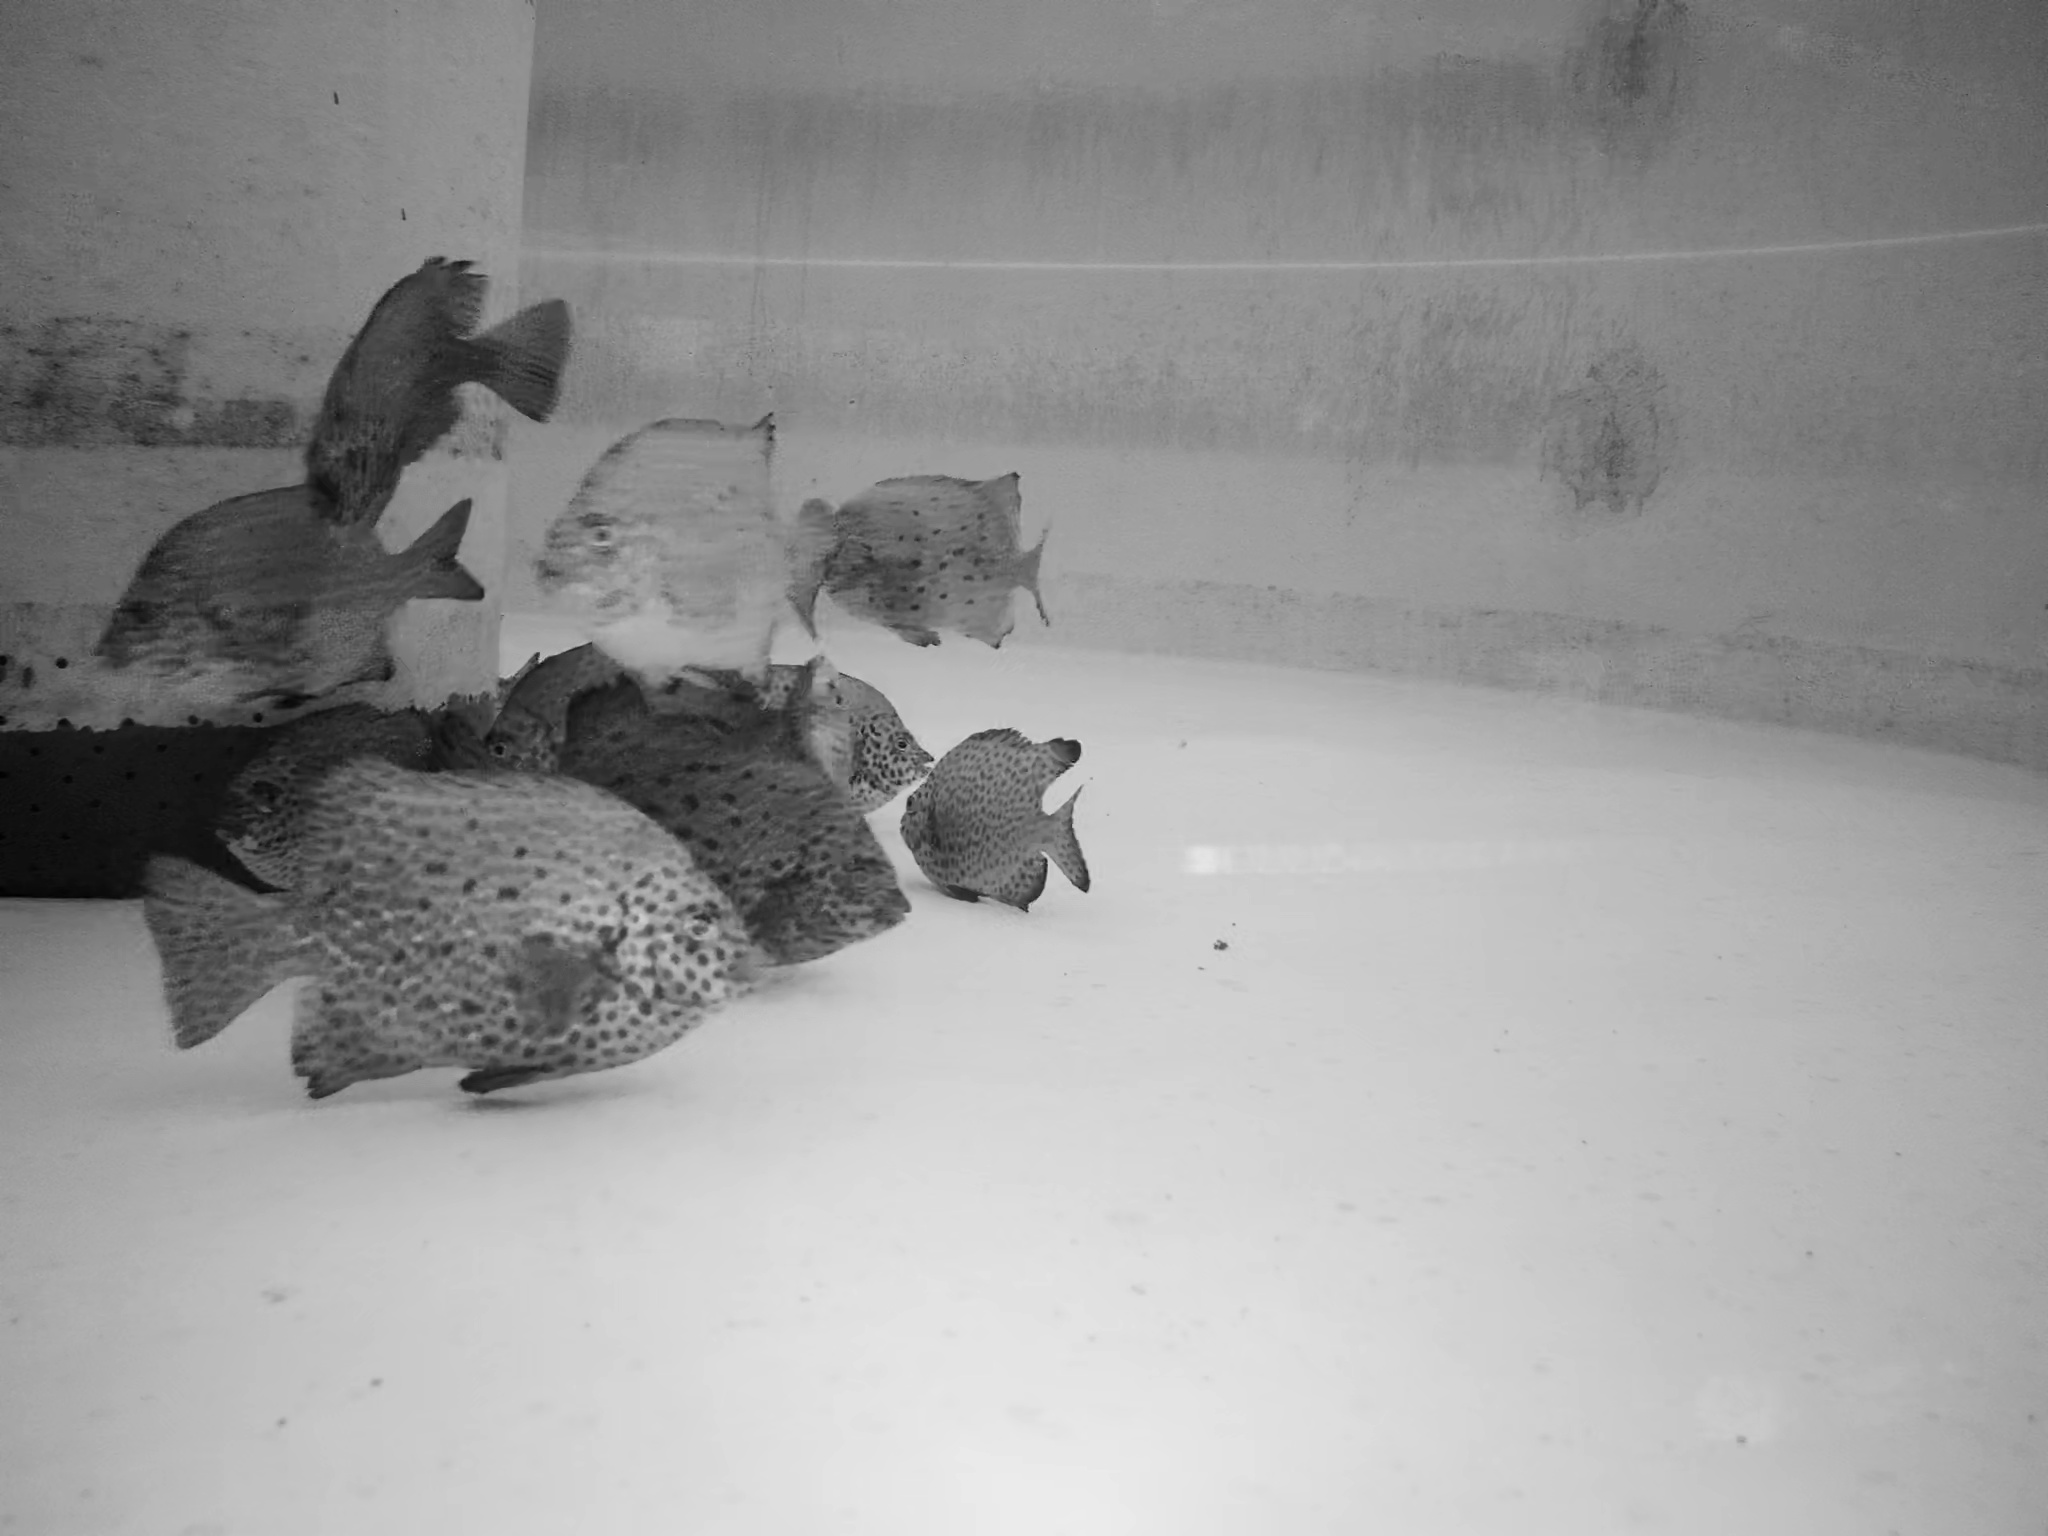fish: (139, 760, 776, 1096), (476, 678, 908, 949), (519, 410, 830, 670), (98, 487, 481, 694), (285, 257, 576, 513), (830, 453, 1055, 650), (905, 713, 1085, 910), (722, 678, 930, 808), (498, 645, 658, 760)
